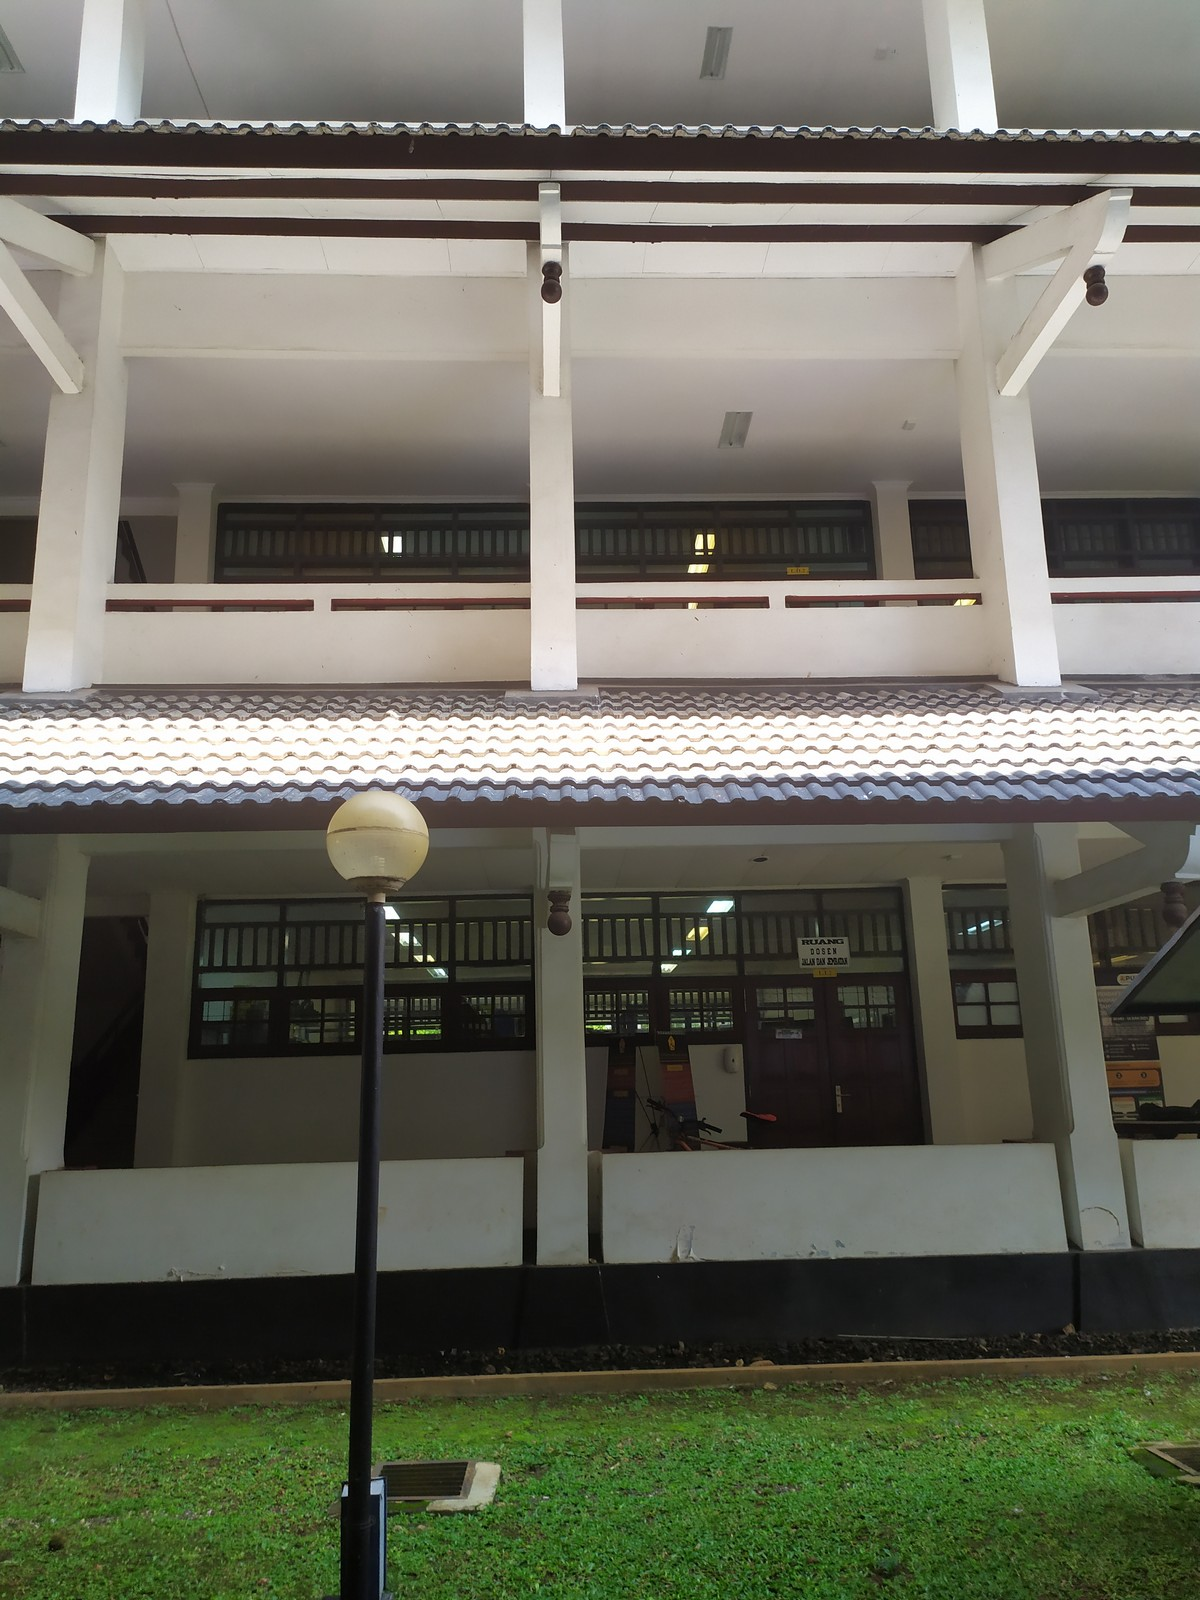concrete beam: (986, 283, 1079, 413), (15, 281, 96, 403), (1046, 858, 1158, 931)
concrete column: (11, 238, 137, 706), (1005, 838, 1137, 1265), (942, 277, 1076, 694), (891, 867, 977, 1146), (129, 889, 205, 1169), (913, 3, 1005, 132), (67, 3, 158, 125)
